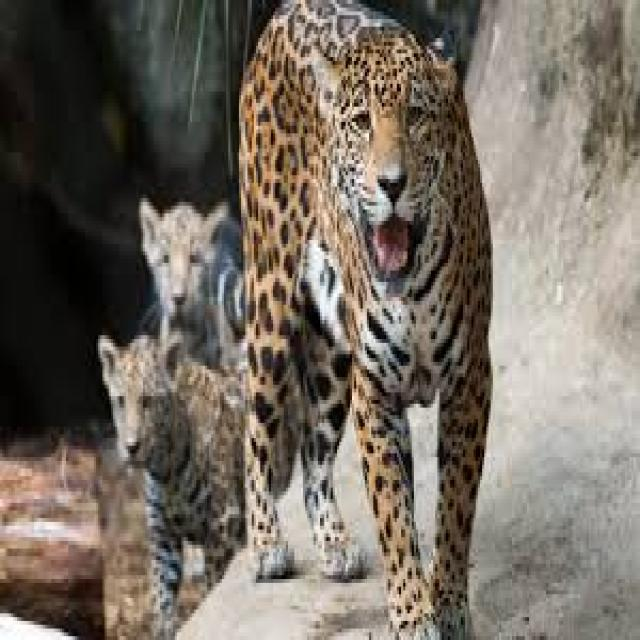Jaguar: (235, 0, 501, 640), (81, 312, 248, 640), (124, 164, 245, 385)
